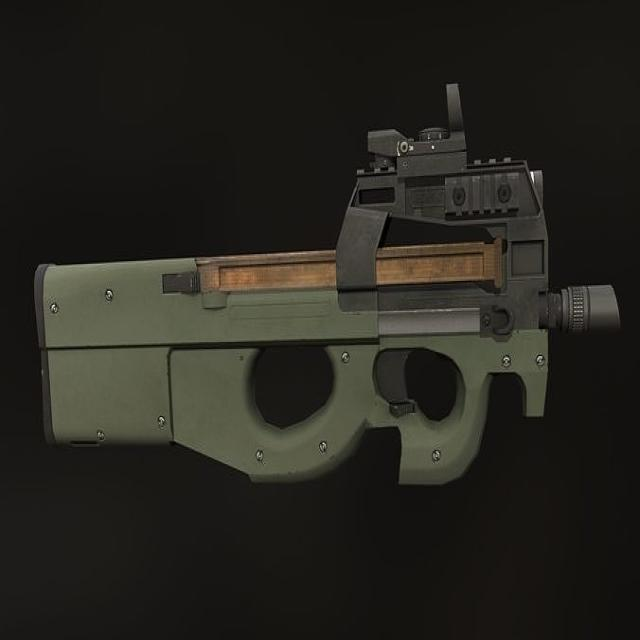SMG: (33, 101, 620, 492)
